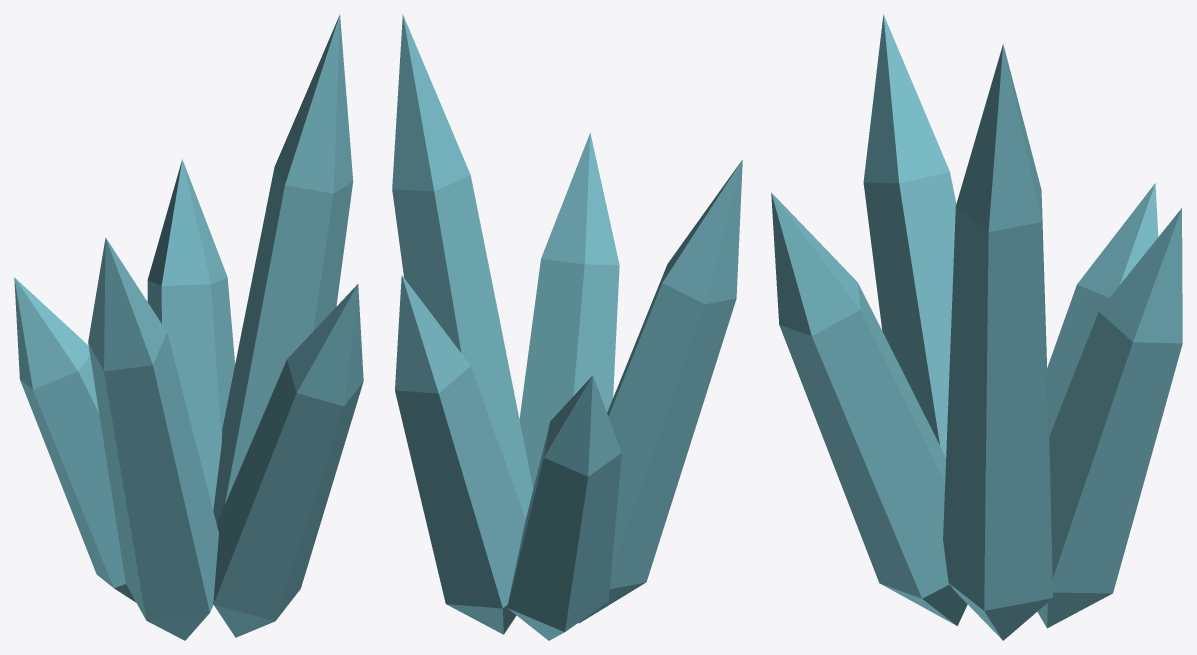
Rendered from Glass_Tuft.glb.
The picture shows the model from 3 angles, left to right: view 1: azimuth 30°, elevation 25°; view 2: azimuth 150°, elevation 25°; view 3: azimuth 270°, elevation 25°; orthographic projection. The views are drawn at different scales.
Visible parts, largest first — view 1: Glass_Tuft; view 2: Glass_Tuft; view 3: Glass_Tuft.
Boxes of the visible parts, box(x1,y1,x2,y2) form: Glass_Tuft: box(14, 14, 363, 640); Glass_Tuft: box(392, 14, 742, 640); Glass_Tuft: box(771, 14, 1182, 640).
Size of the model in its own units: 0.4034 by 0.7579 by 0.4342.
